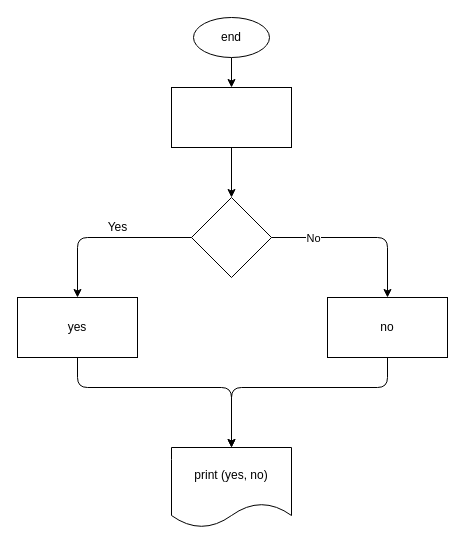
The diagram is 465 pixels wide and 545 high, and some of its shapes have lost their labels. Each missing label, with the box of its shape:
a % 2 = 0: (190, 196, 272, 278)
a = 4: (170, 86, 292, 148)
